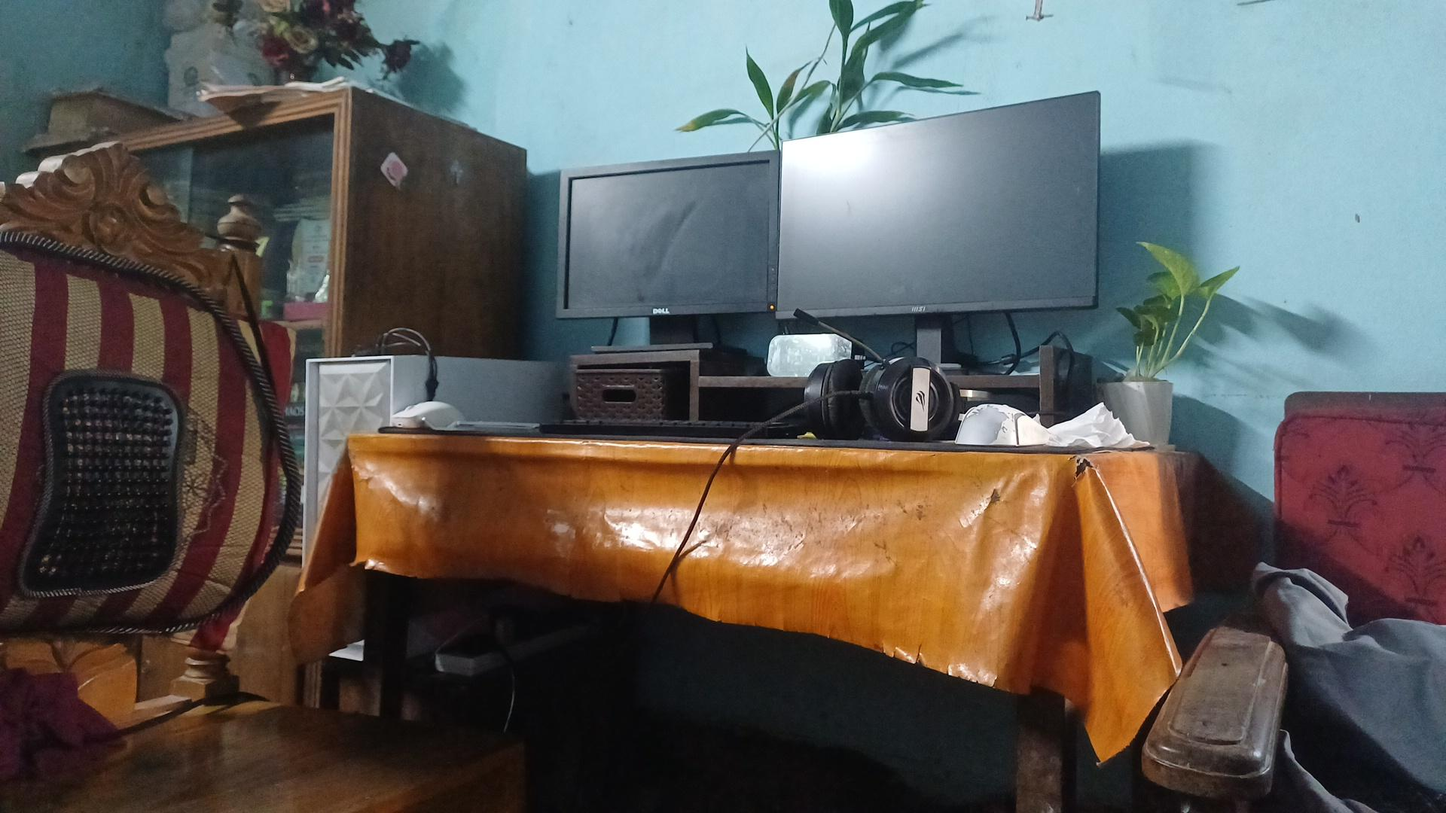Chair: (0, 123, 348, 769)
Clock: (754, 310, 849, 375)
Monitor: (783, 116, 1146, 315), (526, 147, 794, 328)
Mouse: (952, 388, 1049, 465), (399, 388, 509, 441)
Plant: (1104, 247, 1234, 465)
